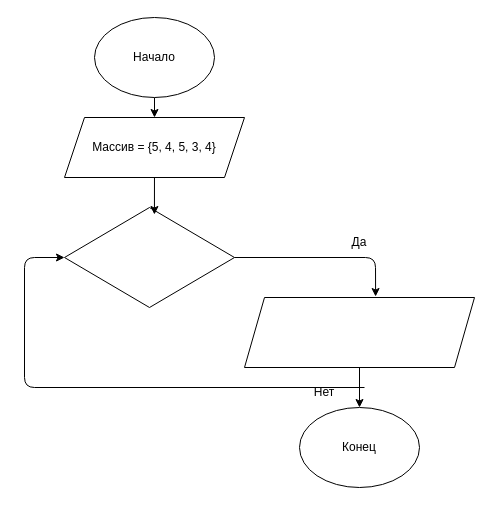
This 492x505 diagram has some shape labels left out. Each missing label, with the centre of its shape:
"i =0; i< длина массива; i++" goes at (149,257).
"Вывод: индекс: число из массимв" goes at (359,332).
